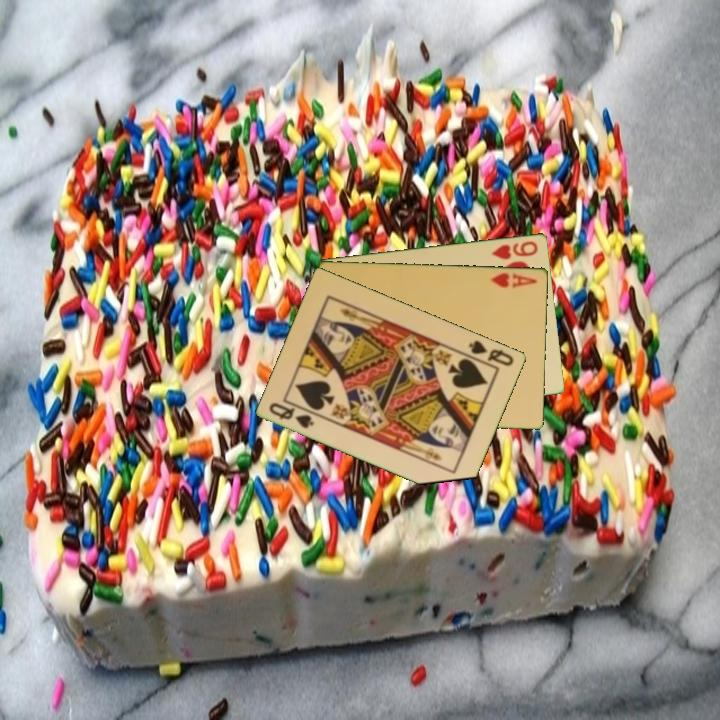9h: (489, 237, 541, 262)
Ah: (487, 269, 540, 291)
Qs: (465, 336, 517, 369), (266, 399, 317, 431)
